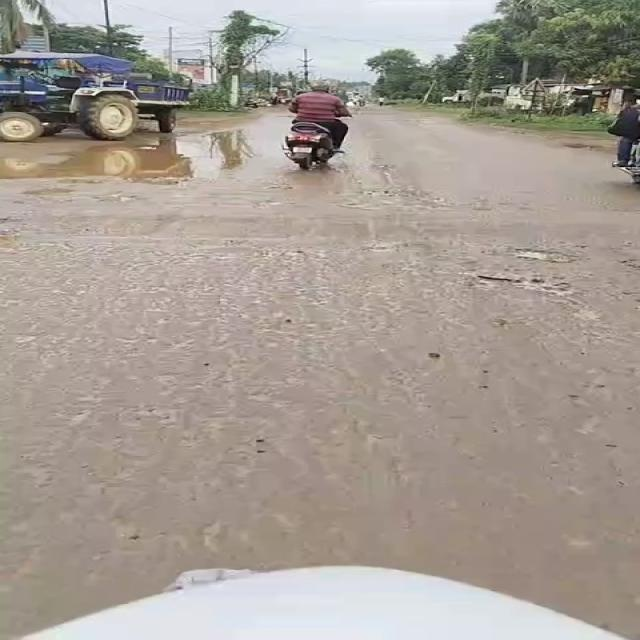pothole: (0, 138, 290, 185), (511, 247, 578, 264)
